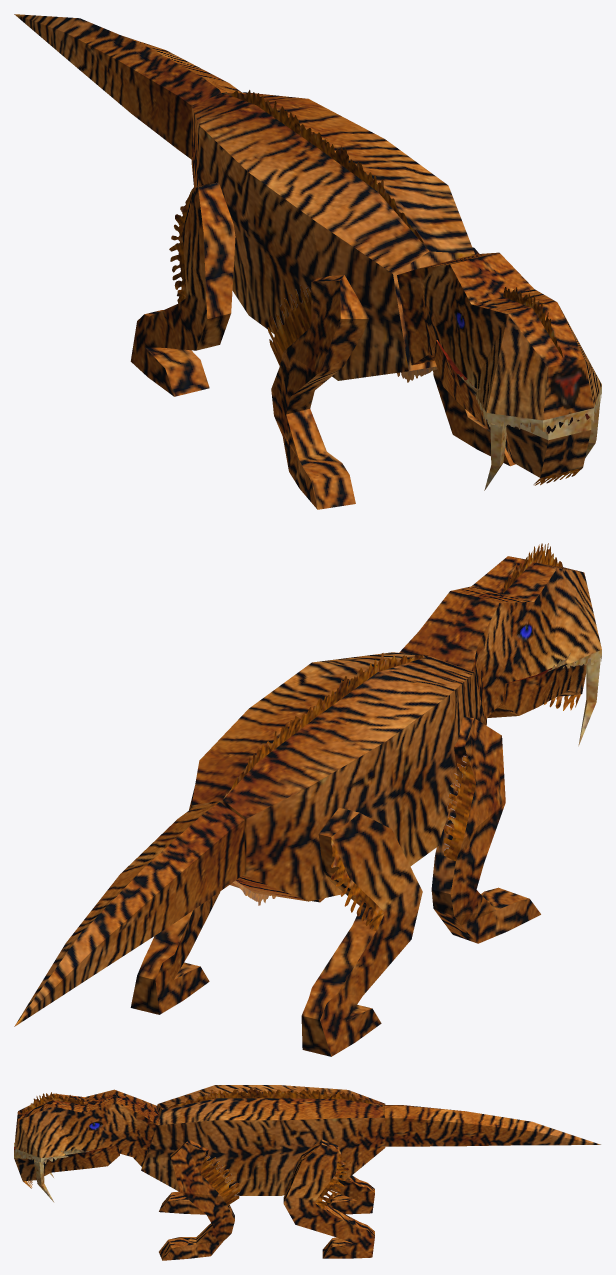
Rendered from barghest.obj.
3 renders of one model, top to bottom at view 1: azimuth 30°, elevation 25°; view 2: azimuth 150°, elevation 25°; view 3: azimuth 270°, elevation 25°, orthographic. The views are drawn at different scales.
Parts seen in each view (by area): view 1: Body, Head, LegRightFront, LegRightBack, Tail, Mouth, LegLeftFront; view 2: Body, Head, LegRightBack, Tail, LegRightFront, LegLeftBack, Mouth; view 3: Body, Head, Tail, LegLeftBack, LegLeftFront, Mouth, LegRightBack, LegRightFront.
Part boxes in pixels (left/top/right/bottom): Body: left=191, top=90, right=474, bottom=382; Head: left=397, top=252, right=601, bottom=490; LegRightFront: left=267, top=275, right=369, bottom=509; LegRightBack: left=130, top=182, right=235, bottom=396; Tail: left=14, top=14, right=241, bottom=159; Mouth: left=434, top=340, right=591, bottom=485; LegLeftFront: left=433, top=247, right=515, bottom=466; Body: left=191, top=652, right=486, bottom=905; Head: left=399, top=543, right=601, bottom=746; LegRightBack: left=301, top=807, right=422, bottom=1056; Tail: left=14, top=802, right=244, bottom=1026; LegRightFront: left=431, top=717, right=540, bottom=943; LegLeftBack: left=130, top=786, right=220, bottom=1014; Mouth: left=488, top=653, right=586, bottom=717; Body: left=141, top=1085, right=385, bottom=1195; Head: left=15, top=1089, right=159, bottom=1202; Tail: left=381, top=1105, right=600, bottom=1146; LegLeftBack: left=283, top=1139, right=374, bottom=1258; LegLeftFront: left=159, top=1140, right=240, bottom=1260; Mouth: left=14, top=1139, right=119, bottom=1188; LegRightBack: left=325, top=1175, right=374, bottom=1214; LegRightFront: left=159, top=1191, right=205, bottom=1214.
Bounding box in the file's own units: 1.18 × 1.37 × 5.07.
